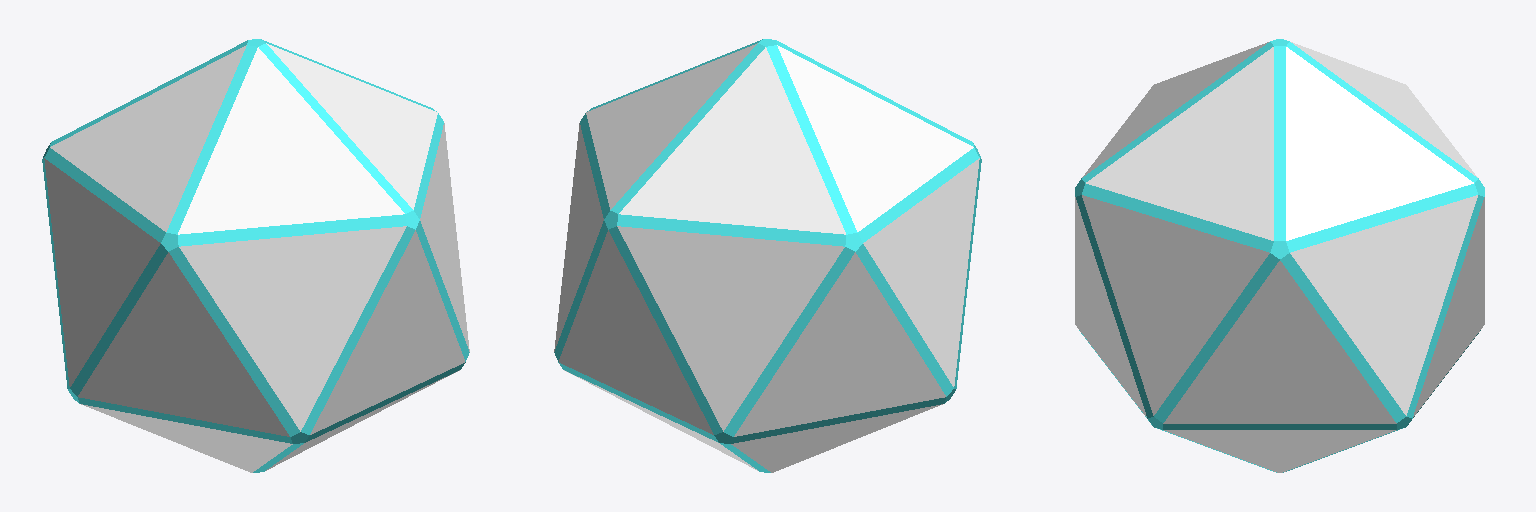
3 views of the same model, side by side, from view 1: azimuth 30°, elevation 25°; view 2: azimuth 150°, elevation 25°; view 3: azimuth 270°, elevation 25° (orthographic).
Parts seen in each view (by area): view 1: ICO球; view 2: ICO球; view 3: ICO球.
Part boxes in pixels (left/top/right/bottom): ICO球: left=42, top=39, right=469, bottom=472; ICO球: left=554, top=39, right=981, bottom=472; ICO球: left=1075, top=39, right=1484, bottom=472.
Size of the model in its own units: 1.77 by 1.94 by 1.68.
1 materials, 1 textured.